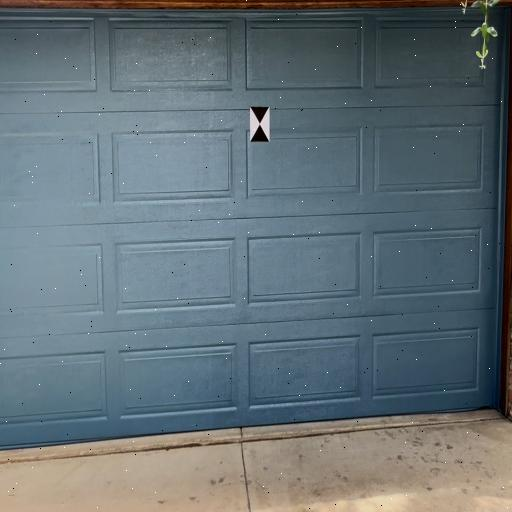target: (250, 106, 271, 142)
